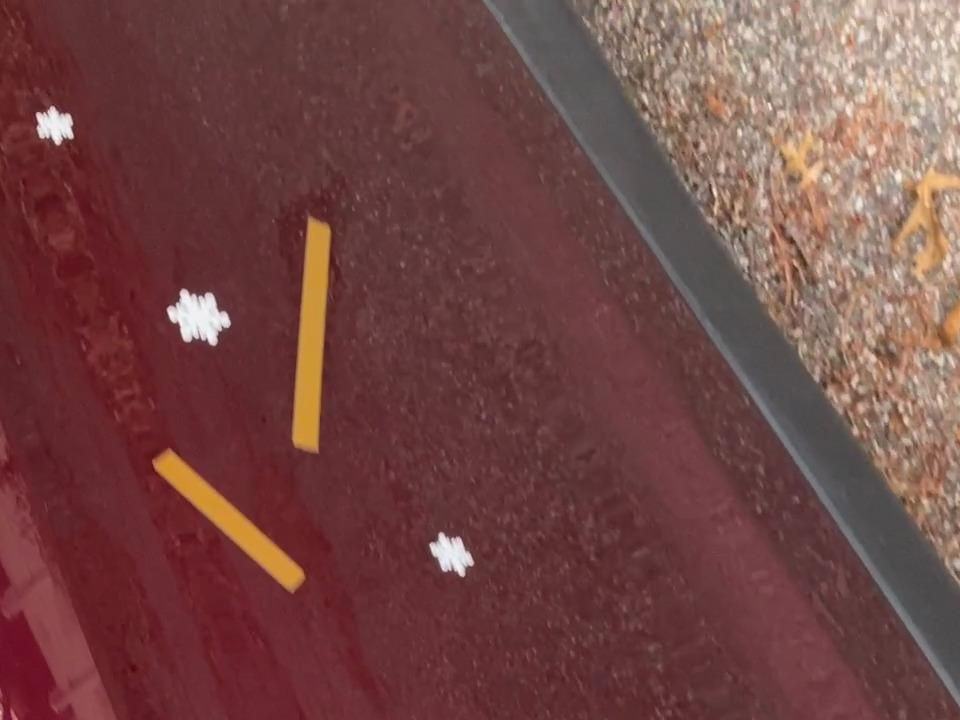dent: (161, 279, 236, 356), (425, 519, 484, 587), (25, 93, 83, 155)
scratch: (147, 439, 311, 595), (281, 203, 343, 458), (0, 542, 2, 664)
